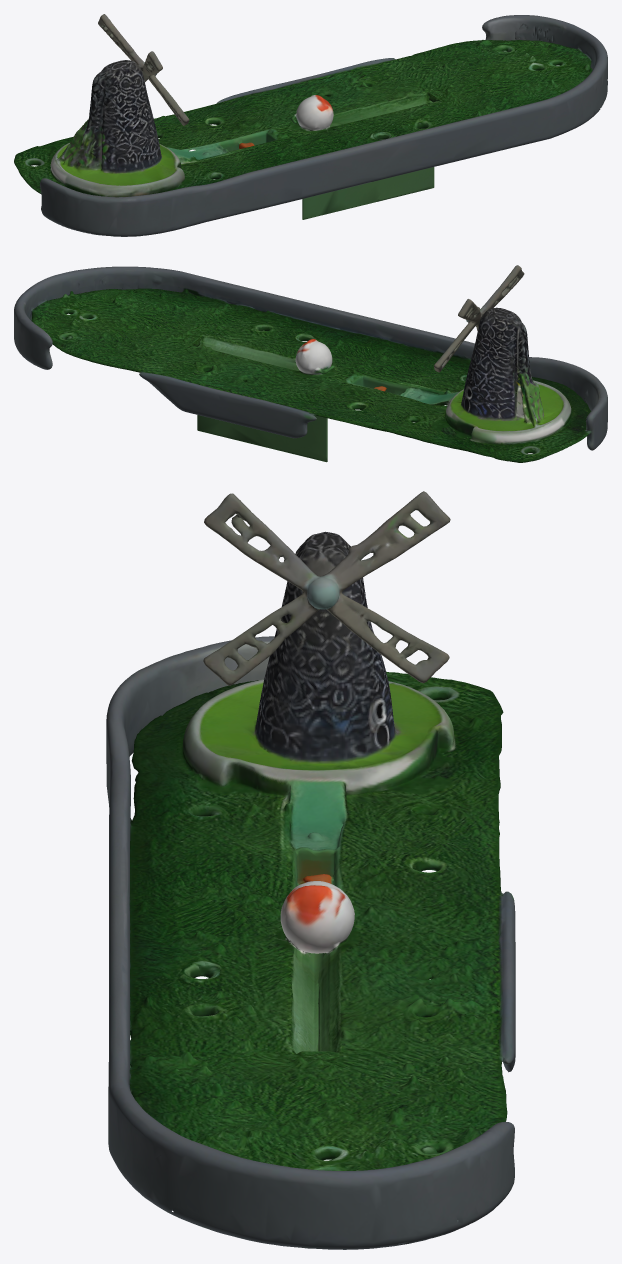
Rendered from building-mini-golf.glb.
The picture shows the model from 3 angles, top to bottom: view 1: azimuth 30°, elevation 25°; view 2: azimuth 150°, elevation 25°; view 3: azimuth 270°, elevation 25°; orthographic projection. The views are drawn at different scales.
Visible parts, largest first — view 1: tripo_node_545a34d5-d606-4632-bc57-ef3e771d5866; view 2: tripo_node_545a34d5-d606-4632-bc57-ef3e771d5866; view 3: tripo_node_545a34d5-d606-4632-bc57-ef3e771d5866.
Part boxes in pixels (x1,y1,x2,y2): tripo_node_545a34d5-d606-4632-bc57-ef3e771d5866: [14, 14, 607, 236]; tripo_node_545a34d5-d606-4632-bc57-ef3e771d5866: [14, 265, 607, 462]; tripo_node_545a34d5-d606-4632-bc57-ef3e771d5866: [106, 491, 515, 1249].
Bounding box in the file's own units: 10.38 × 4 × 3.31.
1 material, 1 textured.
